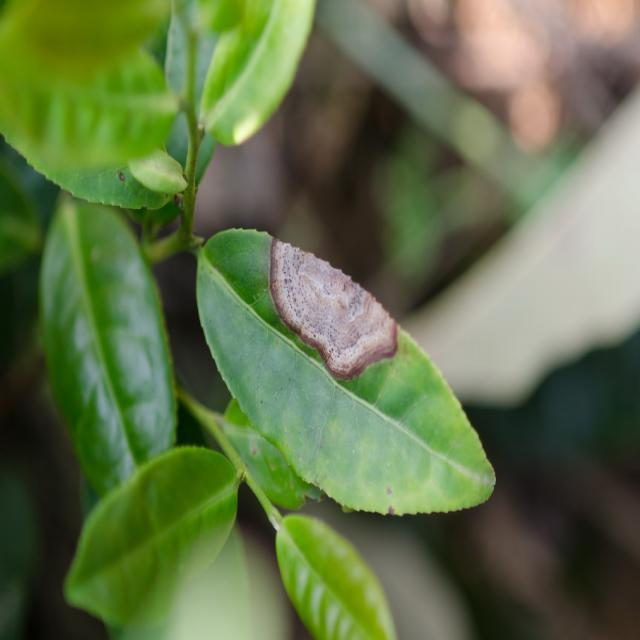Tea cloud leaf blight: (269, 235, 403, 378)
